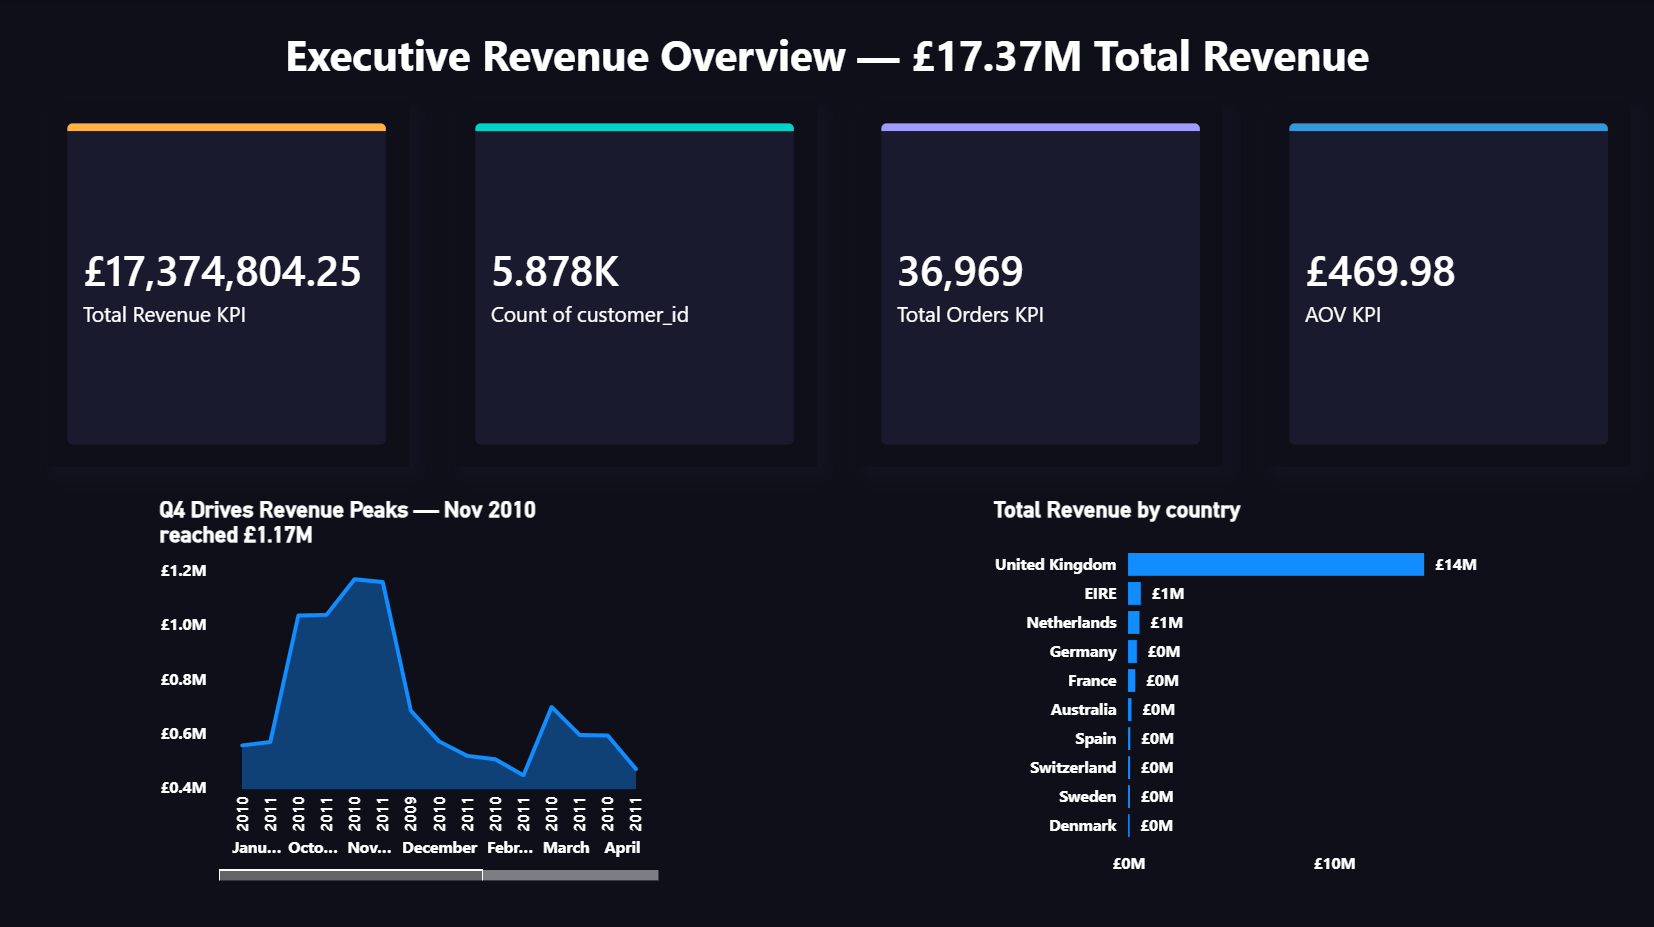

Layout of this report page (visuals, bound fields, positions):
{"tool":"powerbi","page":{"name":"Executive KPIs","canvas":[1280,720],"ordinal":0},"visuals":[{"type":"cardVisual","fields":{"Data":["fact_sales.Total Revenue KPI"]},"box":[41.3,79.6,278.7,280.2],"z":0},{"type":"cardVisual","fields":{"Data":["Count(rfm_segments.customer_id)"]},"box":[353.2,79.6,278.7,280.2],"z":1000},{"type":"cardVisual","title":"Total Orders","fields":{"Data":["fact_sales.Total Orders KPI"]},"box":[665,79.6,278.7,280.2],"z":2000},{"type":"cardVisual","fields":{"Data":["fact_sales.AOV KPI"]},"box":[976.8,79.6,278.7,280.2],"z":3000},{"type":"textbox","box":[0,16.8,1280,128.6],"z":4000},{"type":"areaChart","title":"Q4 Drives Revenue Peaks — Nov 2010 reached £1.17M","fields":{"Category":["dim_date.month_name","dim_date.year"],"Y":["fact_sales.Total Revenue"]},"box":[124,382.8,392,298.6],"z":5000},{"type":"clusteredBarChart","fields":{"Category":["dim_customer.country"],"Y":["fact_sales.Total Revenue"]},"box":[762.5,382.8,405.7,298.6],"z":6000}]}

Visuals, with their boxes in screenshot pixels (x1, y1, x2, y2), scaled from the page's 1280x720 canvas onto the 1654x927 screenshot:
cardVisual - fact_sales.Total Revenue KPI: [x1=53, y1=102, x2=414, y2=463]
cardVisual - Count(rfm_segments.customer_id): [x1=456, y1=102, x2=817, y2=463]
"Total Orders" cardVisual: [x1=859, y1=102, x2=1219, y2=463]
cardVisual - fact_sales.AOV KPI: [x1=1262, y1=102, x2=1622, y2=463]
textbox: [x1=0, y1=22, x2=1653, y2=187]
"Q4 Drives Revenue Peaks — Nov 2010 reached £1.17M" areaChart: [x1=160, y1=493, x2=667, y2=877]
clusteredBarChart - dim_customer.country x fact_sales.Total Revenue: [x1=985, y1=493, x2=1510, y2=877]
